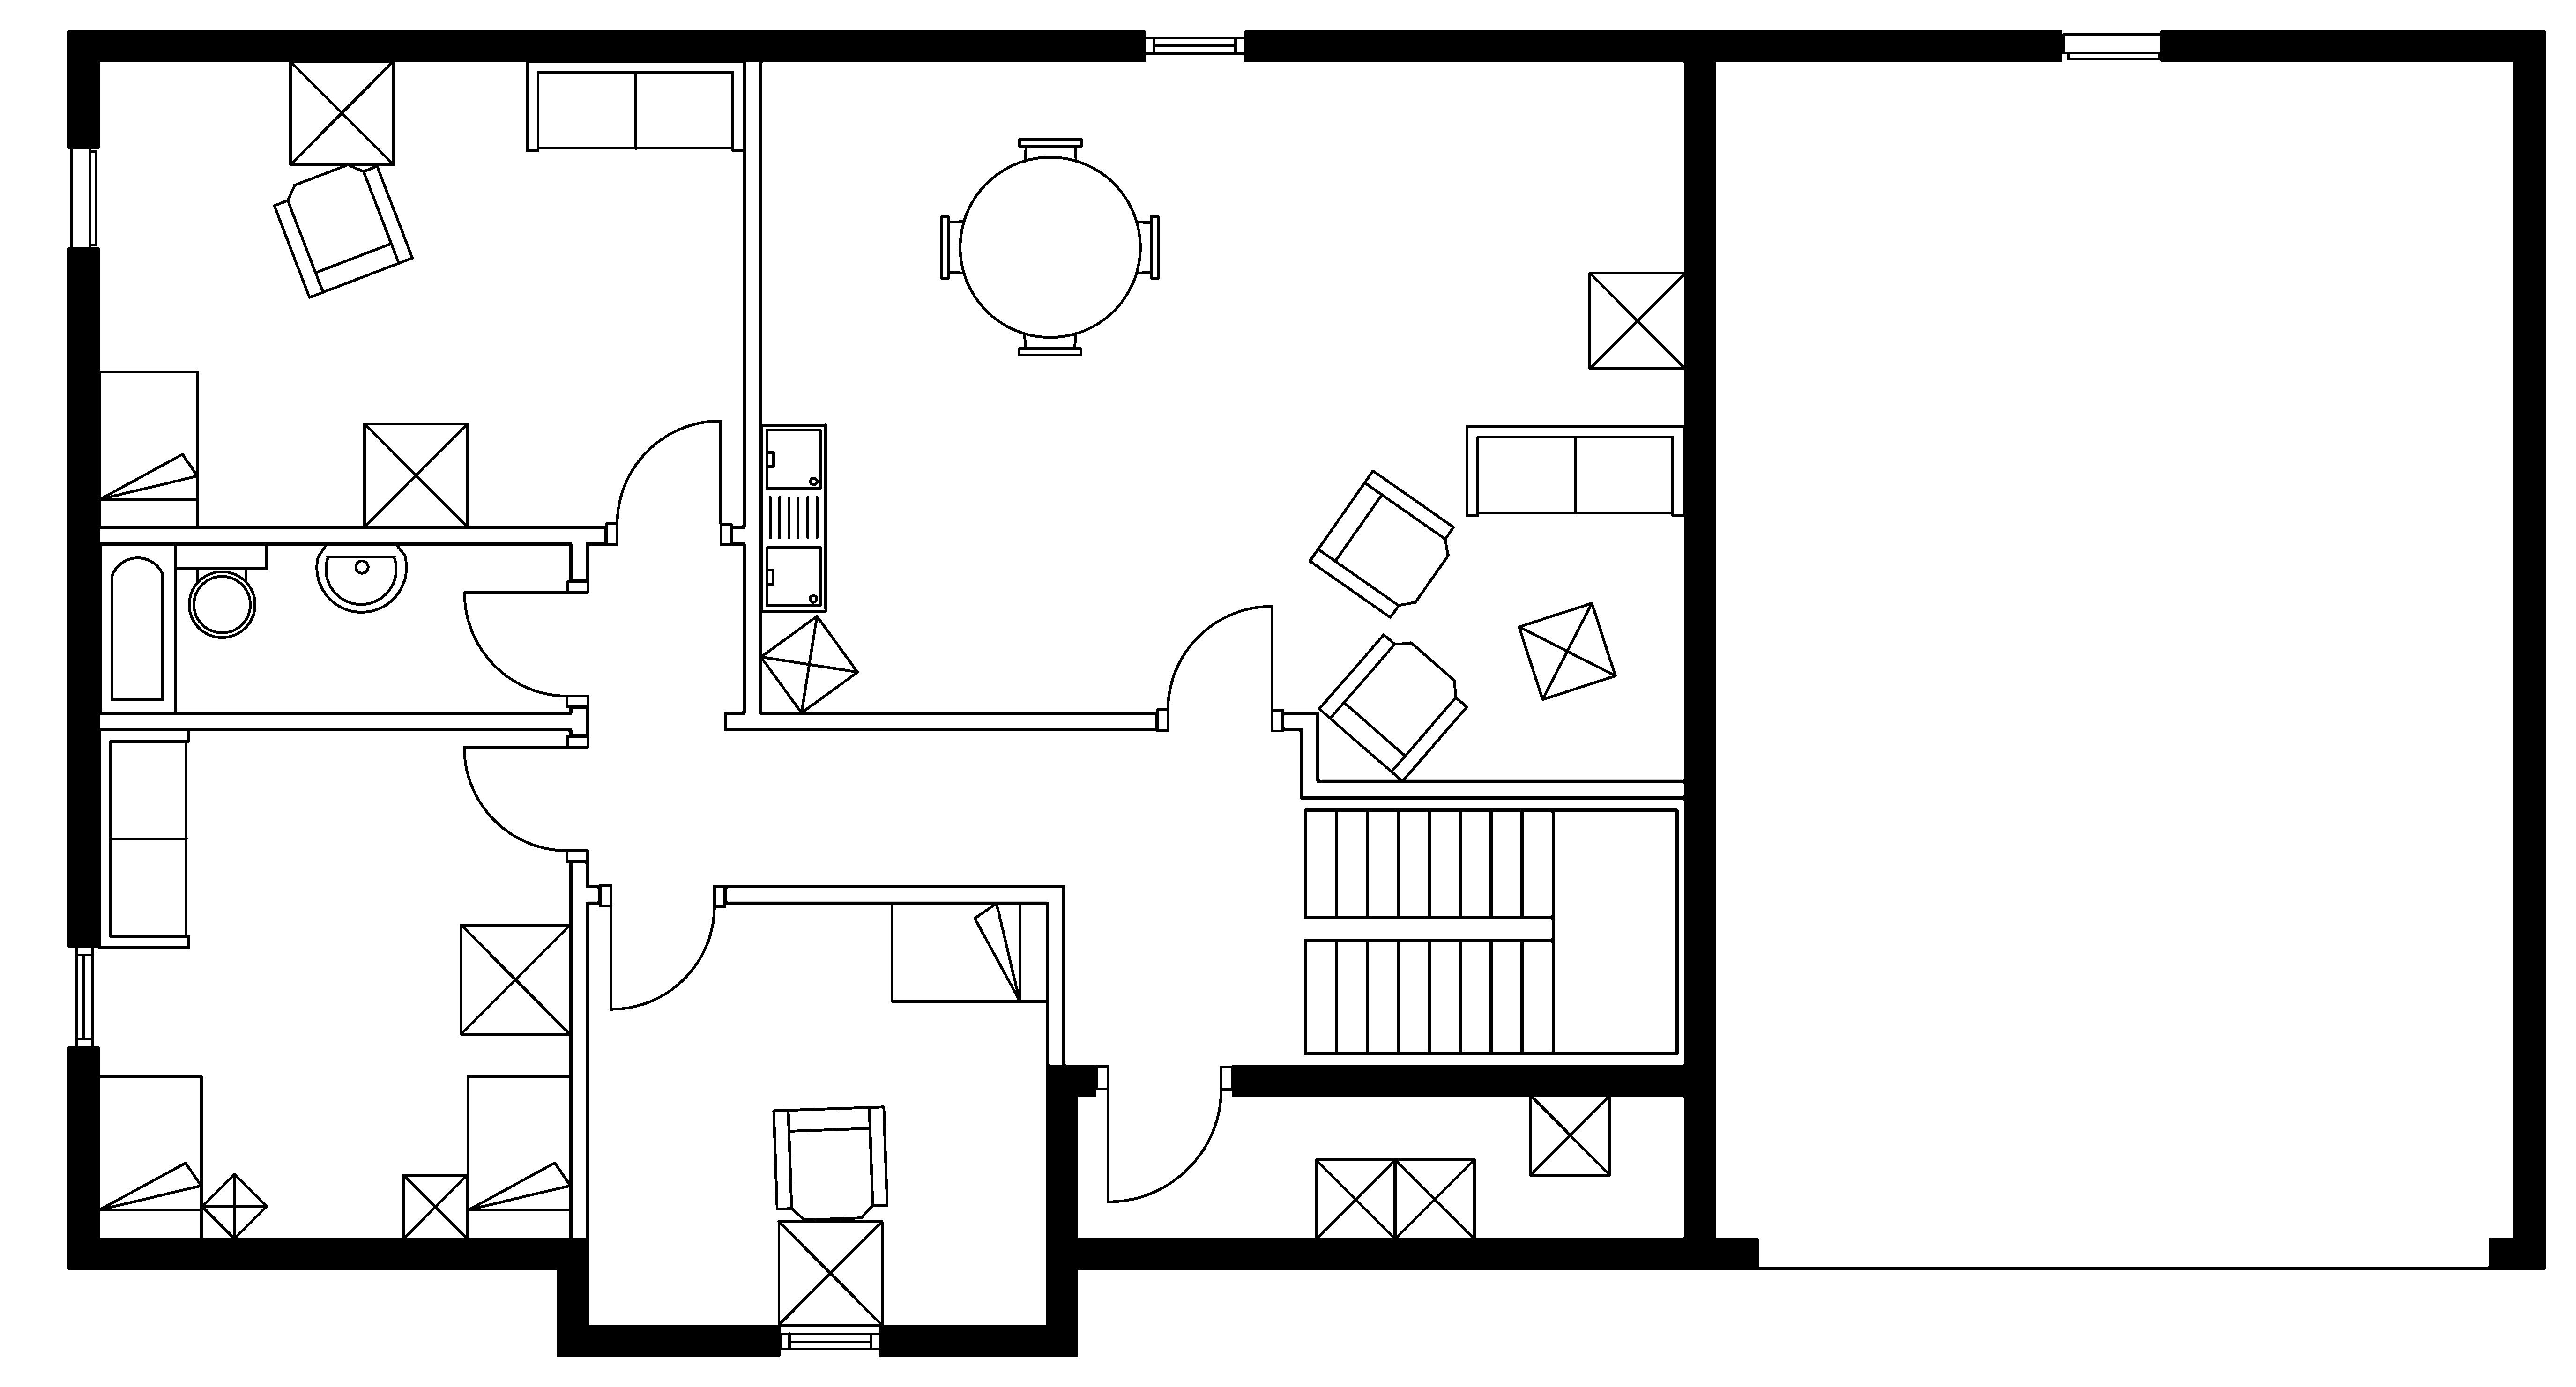armchair: (1317, 632, 1469, 782), (1307, 468, 1455, 620), (272, 162, 413, 299), (770, 1103, 888, 1221)
bed: (96, 1074, 203, 1240), (465, 1074, 572, 1240), (97, 369, 200, 530), (890, 900, 1049, 1003)
coffee_table: (458, 922, 572, 1035), (362, 422, 470, 530), (287, 58, 395, 166), (776, 1220, 883, 1327), (758, 613, 859, 714), (1517, 601, 1618, 702), (1587, 270, 1688, 371), (1527, 1093, 1613, 1177), (1314, 1156, 1397, 1240), (1392, 1156, 1476, 1240), (200, 1172, 268, 1240), (401, 1172, 470, 1240)
large_sink: (173, 541, 268, 639)
large_sofa: (1464, 424, 1686, 518), (97, 728, 191, 950), (524, 60, 746, 152)
round_table: (940, 137, 1160, 357)
small_sink: (316, 541, 407, 613)
tub: (97, 541, 178, 714)
twin_sink: (758, 422, 828, 613)
